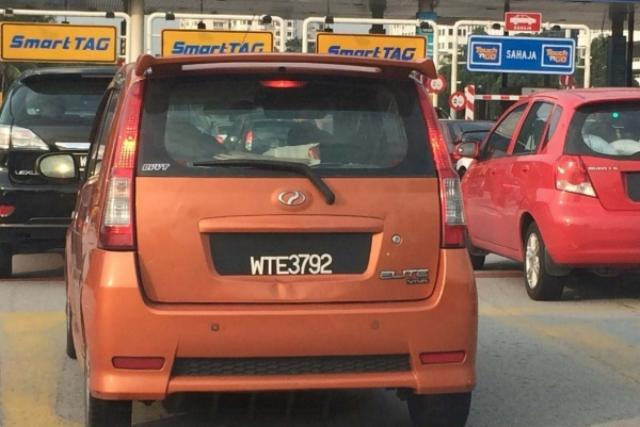License_Plate: (211, 235, 374, 278)
car: (59, 55, 487, 427)
